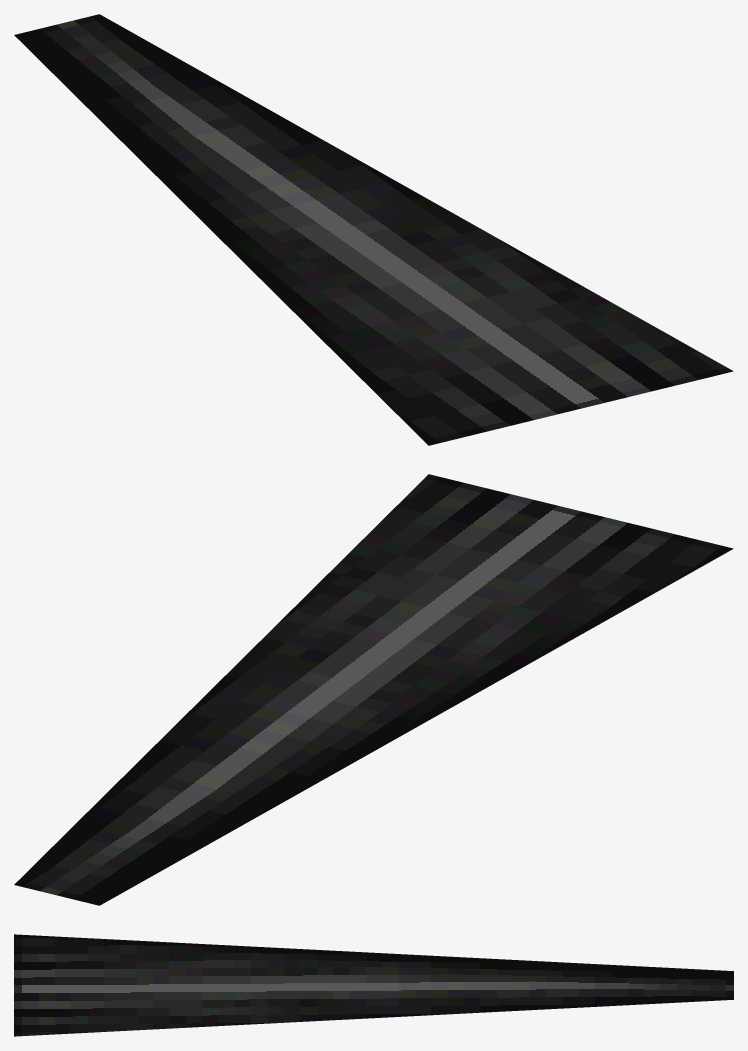
The picture shows the model from 3 angles, top to bottom: view 1: azimuth 30°, elevation 25°; view 2: azimuth 150°, elevation 25°; view 3: azimuth 270°, elevation 25°; orthographic projection. The views are drawn at different scales.
Visible parts, largest first — view 1: Slim_obj_048; view 2: Slim_obj_048; view 3: Slim_obj_048.
Part boxes in pixels (left/top/right/bottom): Slim_obj_048: left=14, top=14, right=733, bottom=445; Slim_obj_048: left=14, top=474, right=733, bottom=905; Slim_obj_048: left=14, top=934, right=733, bottom=1036.
Size of the model in its own units: 0.6895 by 0 by 2.05.
1 material, 1 textured.
